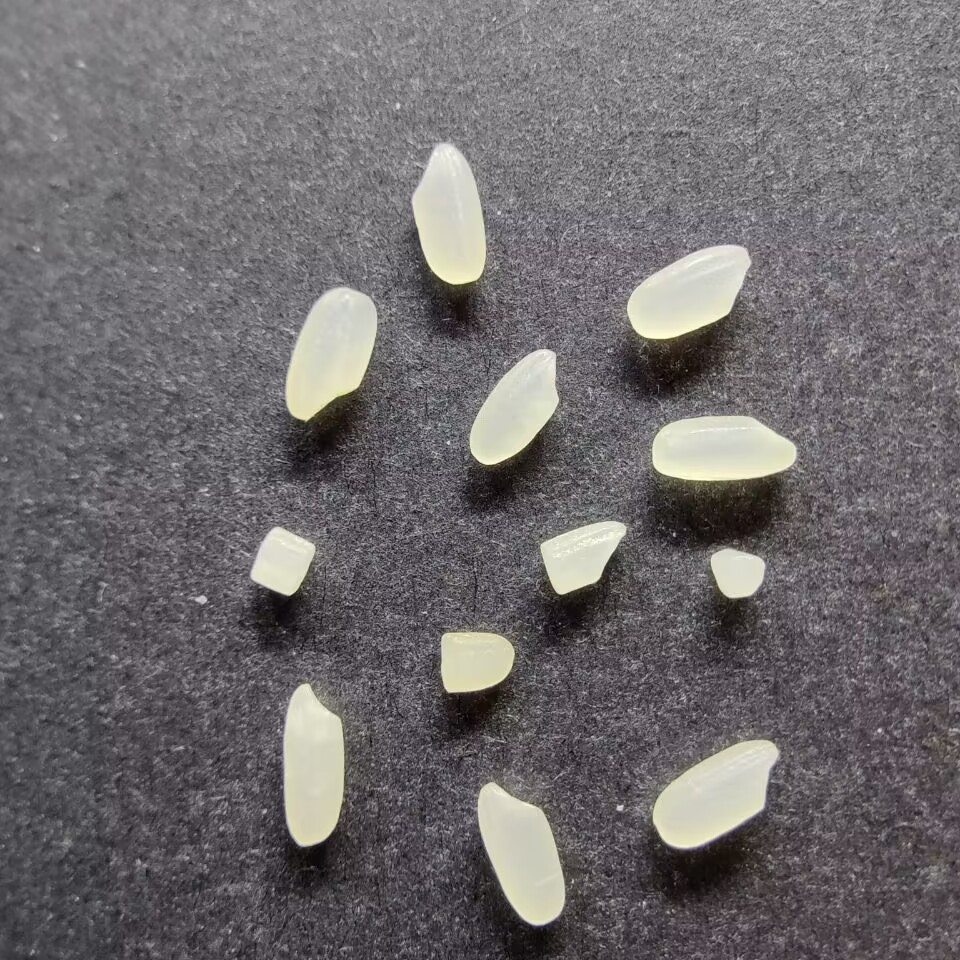broken: (539, 519, 627, 595), (438, 630, 516, 693), (249, 525, 316, 597), (709, 548, 767, 599)
rice: (651, 739, 779, 849), (475, 782, 567, 926), (284, 286, 377, 421), (626, 244, 750, 339), (409, 142, 486, 285), (468, 347, 559, 465), (281, 683, 344, 848), (650, 414, 797, 481)
